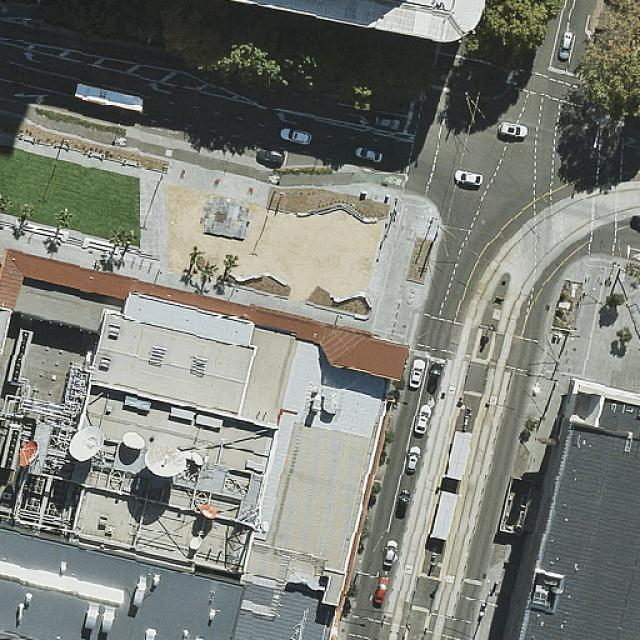Bike-Symbols: (114, 136, 128, 146), (384, 176, 397, 184), (268, 176, 280, 183), (632, 252, 640, 261)
